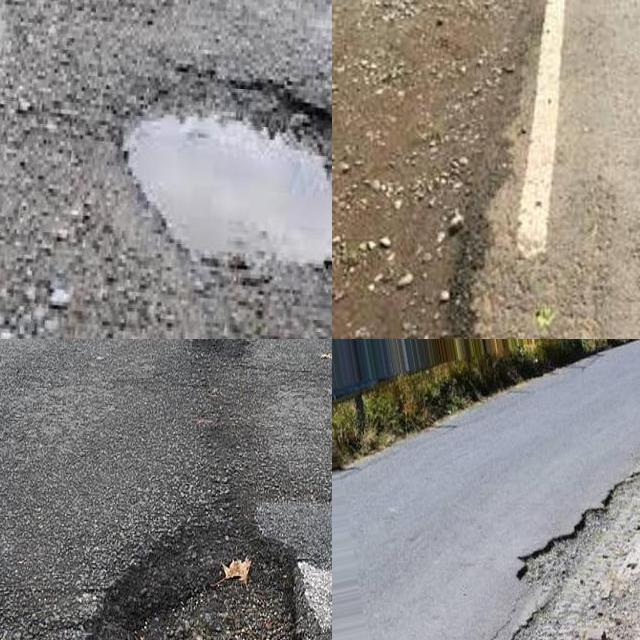Lubang: (114, 80, 332, 284), (87, 512, 304, 640), (191, 339, 259, 357)
Pinggir: (495, 450, 640, 640)
